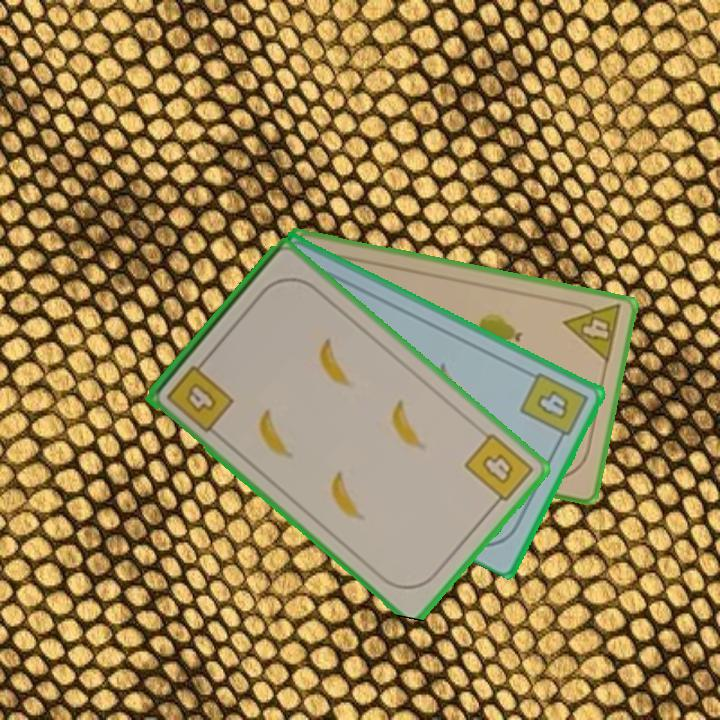4b: (460, 429, 537, 512), (162, 354, 237, 435), (516, 368, 591, 447)
4p: (560, 296, 625, 366)
